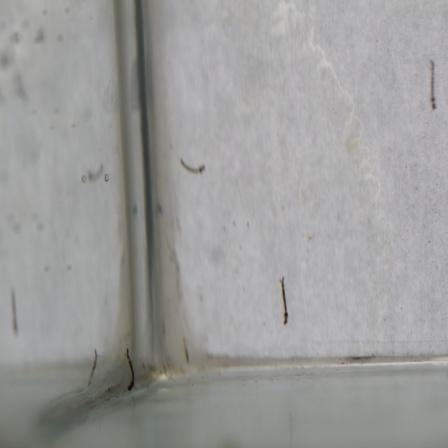Jentik-Nyamuk: (120, 346, 139, 397), (278, 274, 291, 328)
